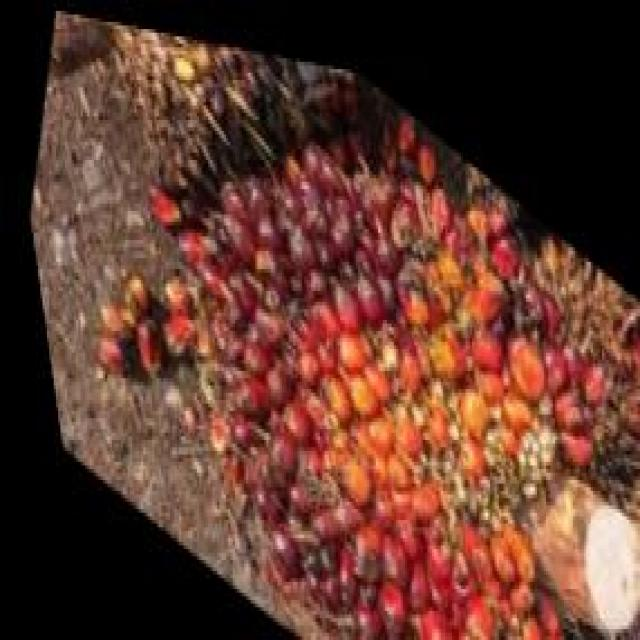Ripefruit: (87, 14, 639, 640)
